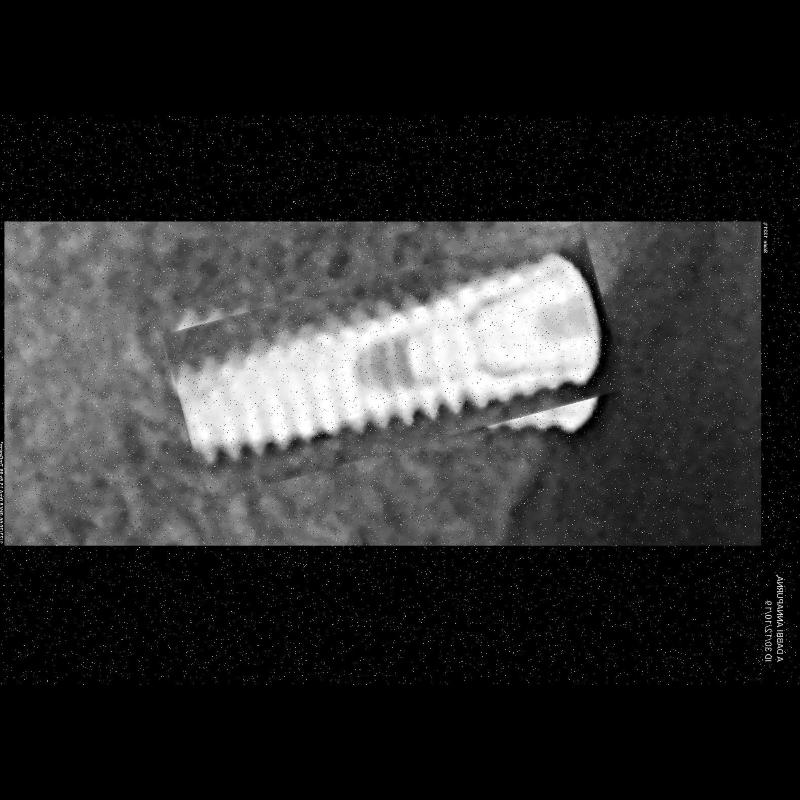osstem: (169, 249, 618, 475)
